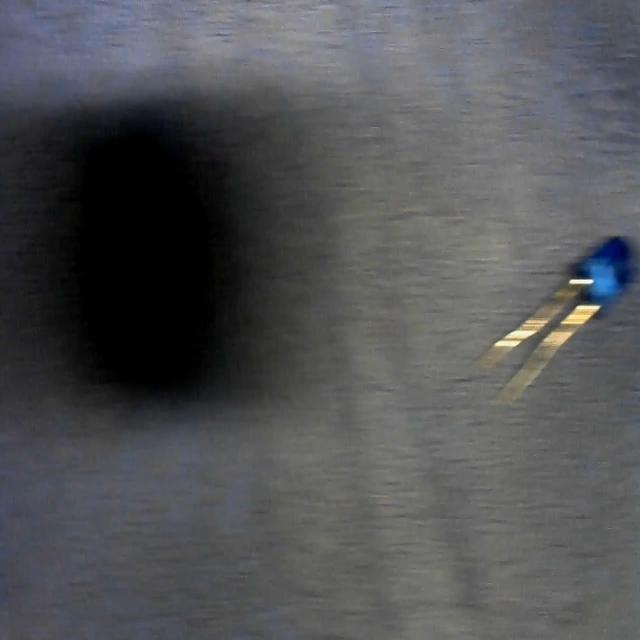LED: (477, 235, 640, 408)
